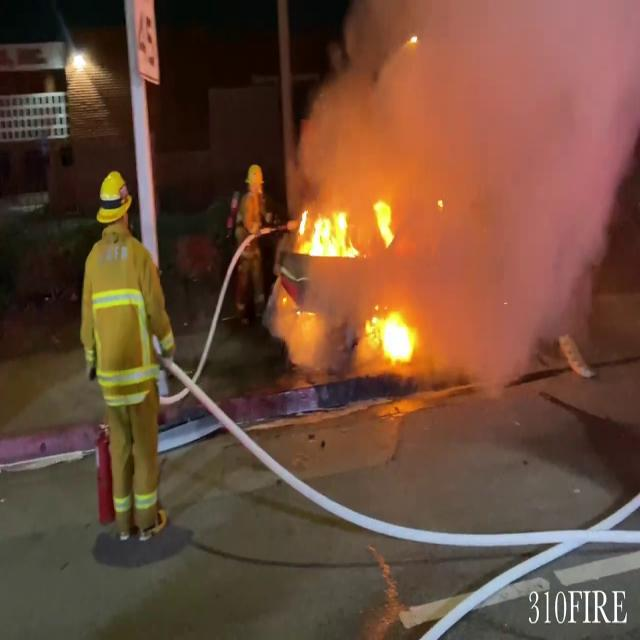Fire: (291, 200, 362, 270), (363, 304, 422, 370)
Smoke: (289, 0, 640, 312)
